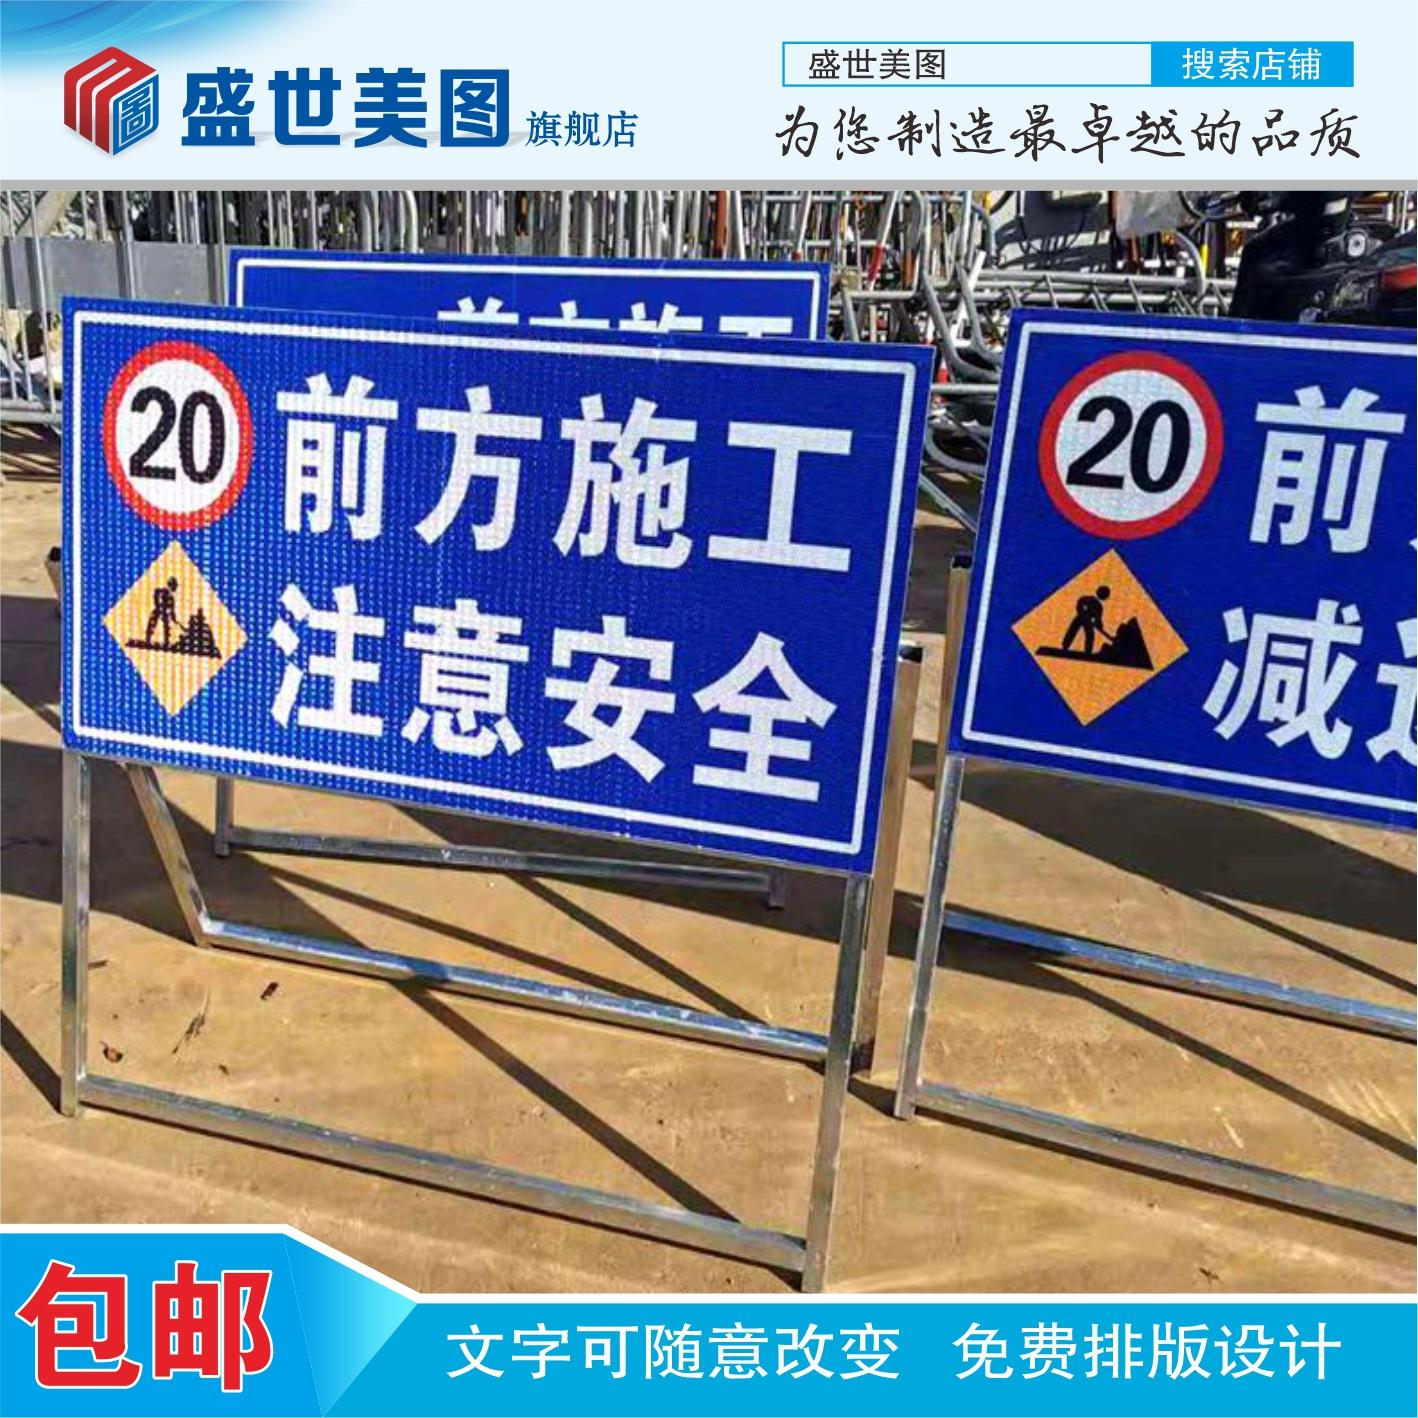sign: (64, 304, 904, 865), (1018, 331, 1402, 792)
